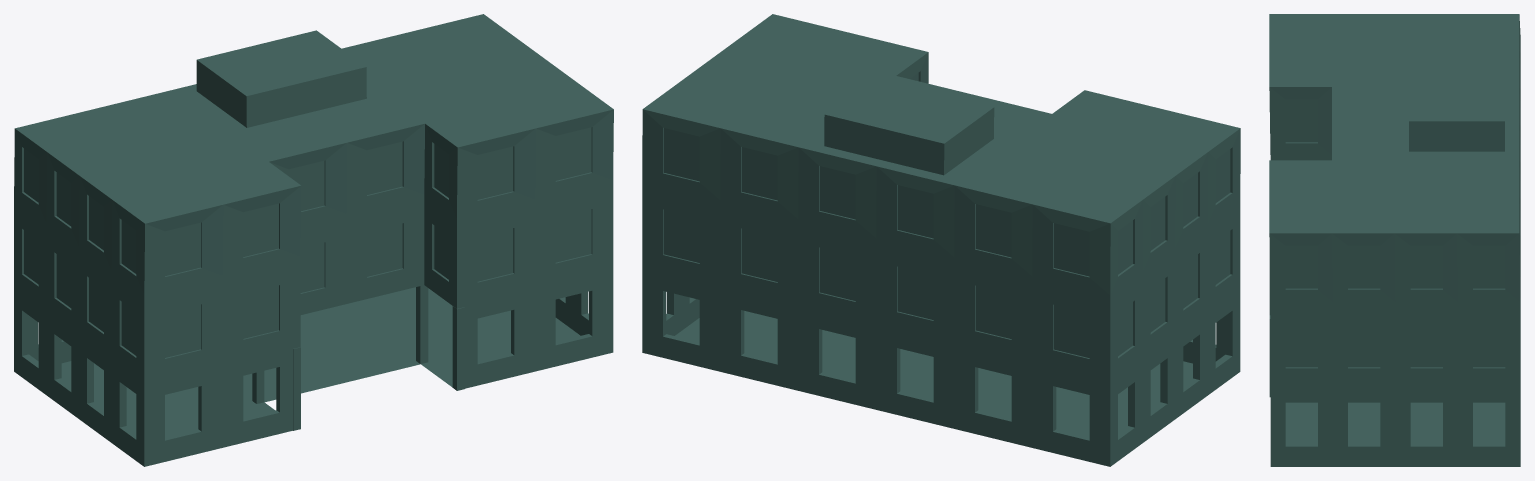
The model's file is building_3 1.fbx.
3 renders of one model, left to right at view 1: azimuth 30°, elevation 25°; view 2: azimuth 150°, elevation 25°; view 3: azimuth 270°, elevation 25°, orthographic. The views are drawn at different scales.
Visible parts, largest first — view 1: building3; view 2: building3; view 3: building3.
Part boxes in pixels (left/top/right/bottom): building3: left=14, top=14, right=613, bottom=466; building3: left=642, top=14, right=1240, bottom=466; building3: left=1269, top=14, right=1520, bottom=466.
Bounding box in the file's own units: 18.01 × 10.1 × 8.7.
